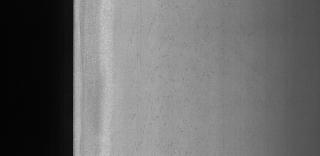silk spot: (119, 48, 181, 144)
